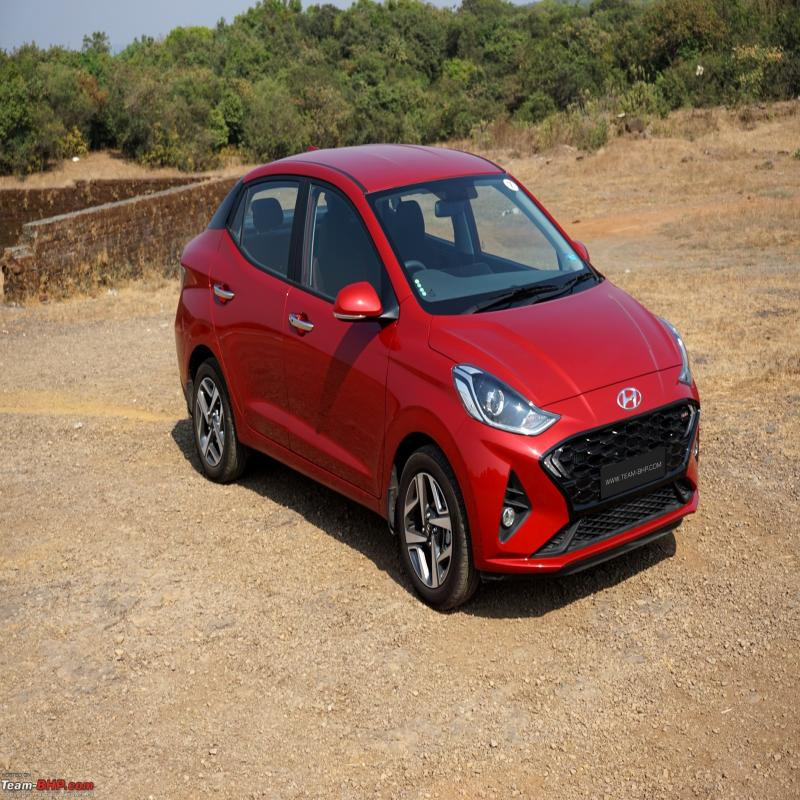car: (153, 128, 706, 600)
